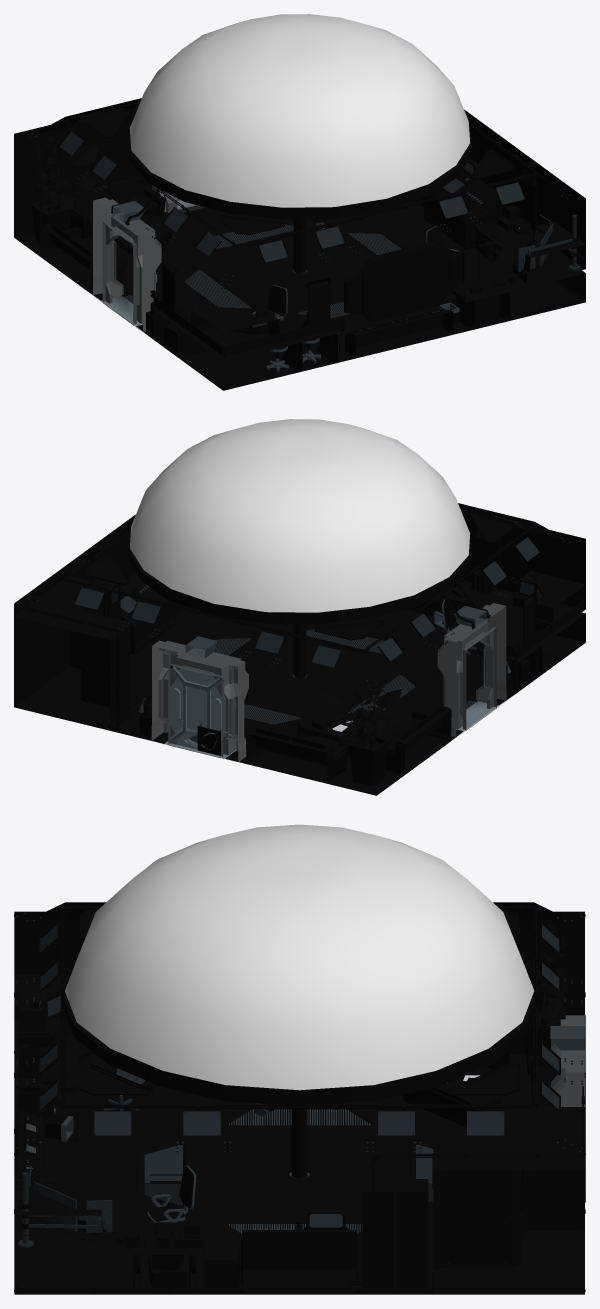
Rendered from ROOMKEY_Kupol.fbx.
3 views of the same model, one above another, from view 1: azimuth 30°, elevation 25°; view 2: azimuth 150°, elevation 25°; view 3: azimuth 270°, elevation 25° (orthographic). The views are drawn at different scales.
Visible parts, largest first — view 1: steklo kupol, Main, doska, gorshok, ROOMKEY_Kupol, stol.001, stol, comp upravleniya, reshetka, svet okolo stola, divan.002, provoda (+20 smaller); view 2: steklo kupol, Main, ROOMKEY_Kupol, shkaf1, Door.001, gorshok, stol.001, divan.002, provoda, reshetka, comp upravleniya, divan (+16 smaller); view 3: steklo kupol, Main, shkaf1, gorshok, stol, comp upravleniya, provoda, reshetka, shkafchik, shkafchik.001, comp, comp.002 (+26 smaller).
Part boxes in pixels (x1,y1,x2,y2): steklo kupol: [129, 14, 470, 207]; Main: [14, 98, 585, 390]; doska: [344, 241, 464, 323]; gorshok: [17, 126, 101, 256]; ROOMKEY_Kupol: [93, 185, 177, 331]; stol.001: [153, 297, 344, 371]; stol: [451, 223, 585, 329]; comp upravleniya: [424, 170, 502, 249]; reshetka: [124, 205, 400, 318]; svet okolo stola: [153, 169, 585, 356]; divan.002: [66, 175, 165, 239]; provoda: [63, 100, 538, 248]; steklo kupol: [129, 419, 470, 612]; Main: [14, 503, 585, 795]; ROOMKEY_Kupol: [151, 603, 506, 761]; shkaf1: [14, 576, 130, 730]; Door.001: [170, 664, 233, 755]; gorshok: [307, 681, 403, 785]; stol.001: [445, 580, 585, 690]; divan.002: [246, 726, 348, 783]; provoda: [64, 505, 536, 652]; reshetka: [214, 629, 475, 724]; comp upravleniya: [120, 573, 175, 654]; divan: [385, 706, 451, 774]; steklo kupol: [65, 824, 534, 1090]; Main: [14, 902, 584, 1294]; shkaf1: [432, 1107, 584, 1287]; gorshok: [513, 912, 584, 1074]; stol: [14, 1169, 204, 1287]; comp upravleniya: [241, 1221, 357, 1283]; provoda: [59, 905, 538, 1109]; reshetka: [144, 1109, 433, 1233]; shkafchik: [396, 1178, 428, 1290]; shkafchik.001: [362, 1178, 393, 1290]; comp: [17, 1166, 129, 1247]; comp.002: [14, 974, 71, 1047].
Bounding box in the file's own units: 10.02 × 6.16 × 10.02.
